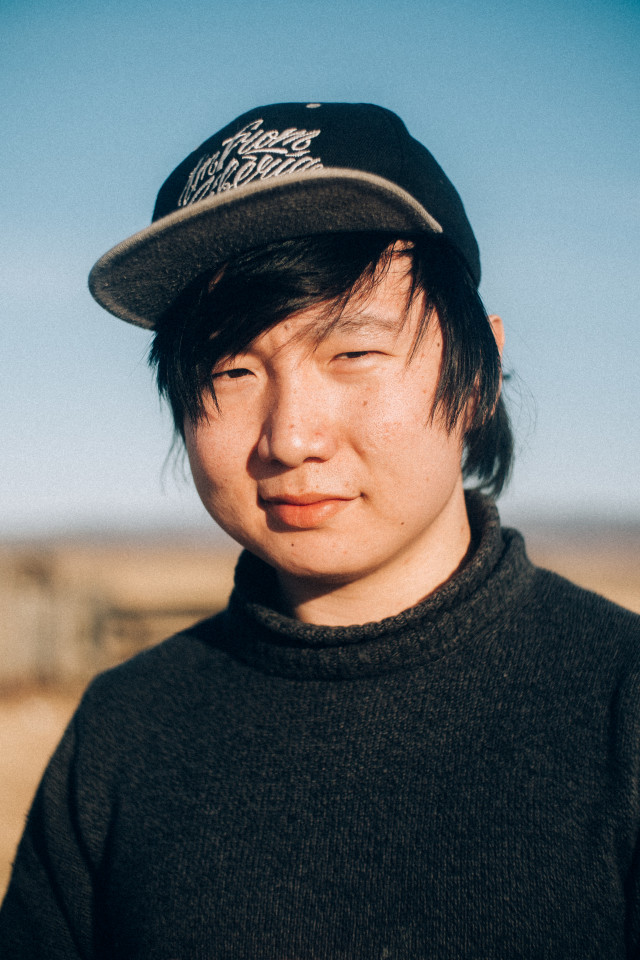bare: (175, 395, 470, 575)
